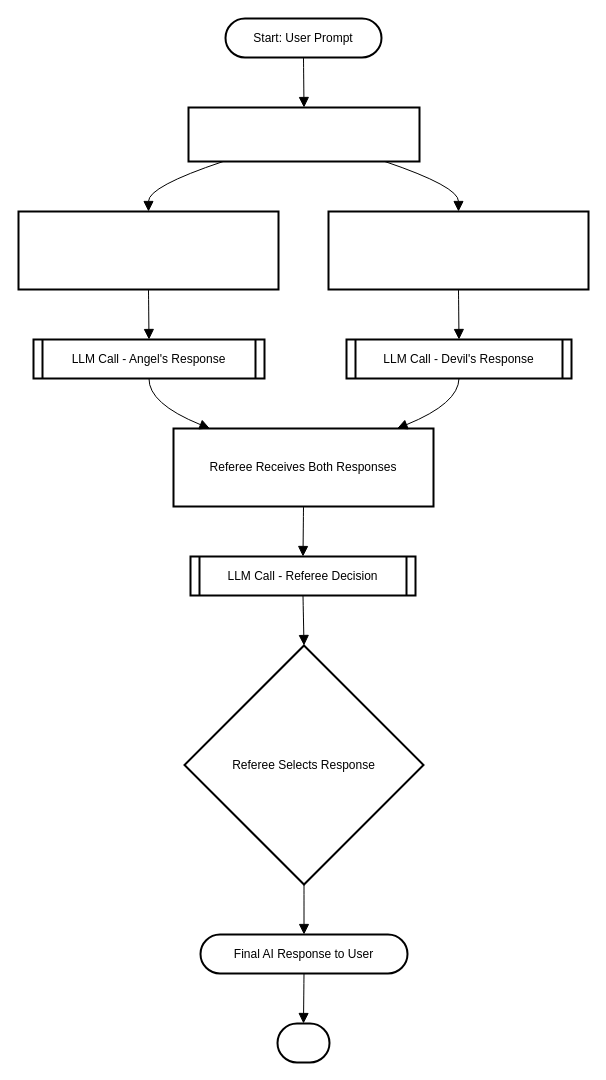
This 606x1080 diagram has some shape labels left out. Each missing label, with the centre of its shape:
"Angel Persona (Gentle Prompt)" goes at point (148, 250).
"Devil Persona (Direct Prompt)" goes at point (458, 250).
"End" goes at point (303, 1042).
"Person Object Activated" goes at point (303, 134).
